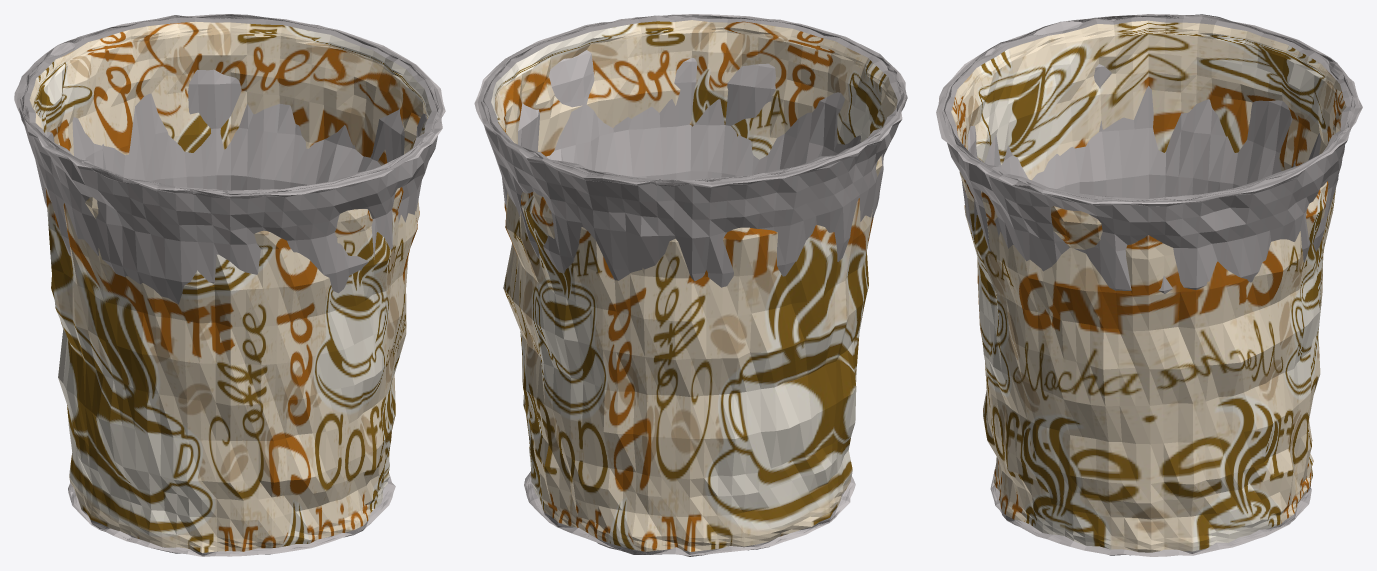
The model's file is crush_low_1.obj.
The picture shows the model from 3 angles, left to right: view 1: azimuth 30°, elevation 25°; view 2: azimuth 150°, elevation 25°; view 3: azimuth 270°, elevation 25°; orthographic projection.
Parts seen in each view (by area): view 1: model; view 2: model; view 3: model.
Boxes of the visible parts, bbox=[...] form: model: bbox=[14, 14, 445, 556]; model: bbox=[474, 14, 907, 556]; model: bbox=[936, 14, 1362, 556].
Bounding box in the file's own units: 0.0836 × 0.0849 × 0.0837.
Materials: 1 (1 with a texture image).
